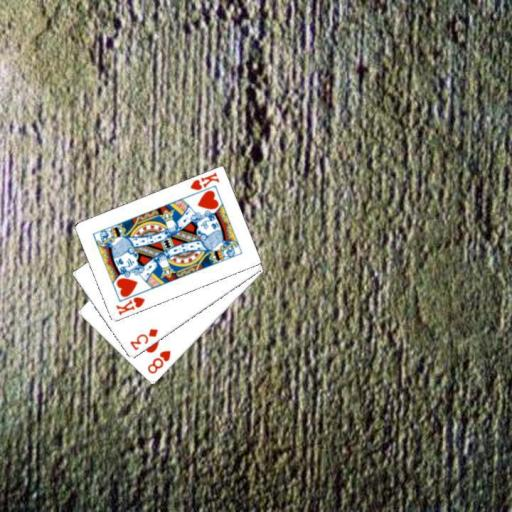3D: (127, 326, 159, 352)
8H: (144, 348, 172, 375)
KH: (113, 294, 147, 317), (187, 169, 221, 192)
